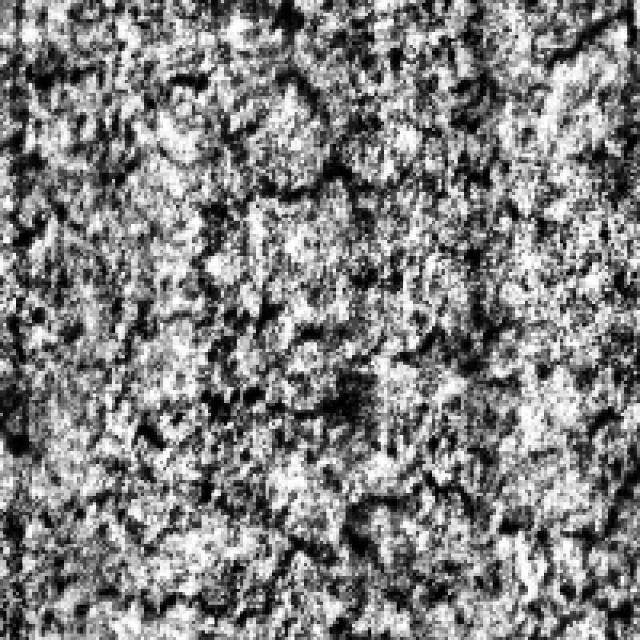Pitted_Surface: (0, 332, 630, 617), (0, 61, 483, 240)
